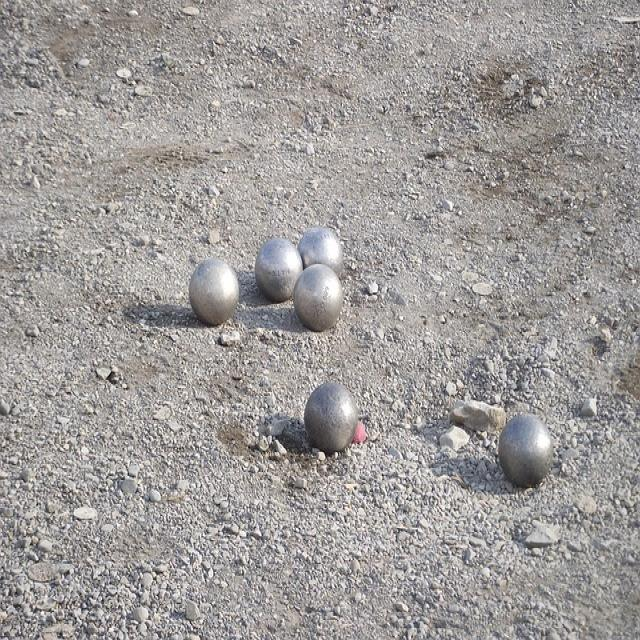hatball: (354, 419, 369, 440)
petanque: (492, 409, 558, 488), (301, 378, 362, 458), (289, 263, 348, 336), (186, 260, 242, 327), (251, 232, 303, 304), (297, 222, 348, 276)
